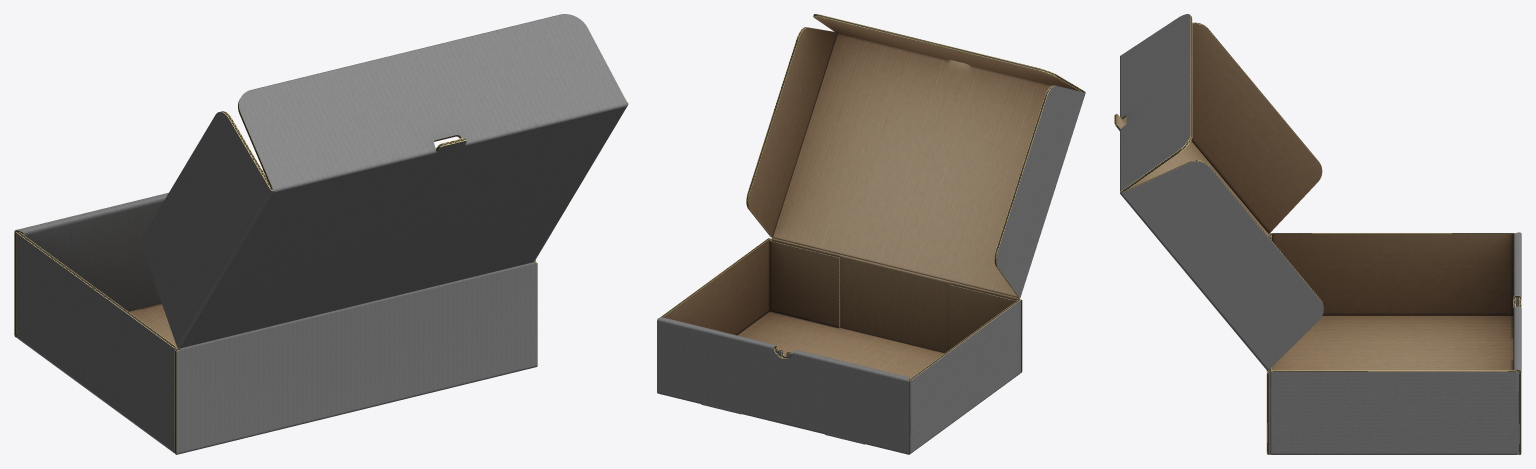
The picture shows the model from 3 angles, left to right: view 1: azimuth 30°, elevation 25°; view 2: azimuth 150°, elevation 25°; view 3: azimuth 270°, elevation 25°; orthographic projection. The views are drawn at different scales.
Parts seen in each view (by area): view 1: TQ_ARD-node.001; view 2: TQ_ARD-node.001; view 3: TQ_ARD-node.001.
Boxes of the visible parts, x1=… form: TQ_ARD-node.001: x1=14, y1=14, x2=628, y2=454; TQ_ARD-node.001: x1=657, y1=14, x2=1085, y2=454; TQ_ARD-node.001: x1=1114, y1=14, x2=1521, y2=454.
Size of the model in its own units: 0.3782 by 0.3948 by 0.4686.
3 materials, 3 textured.
